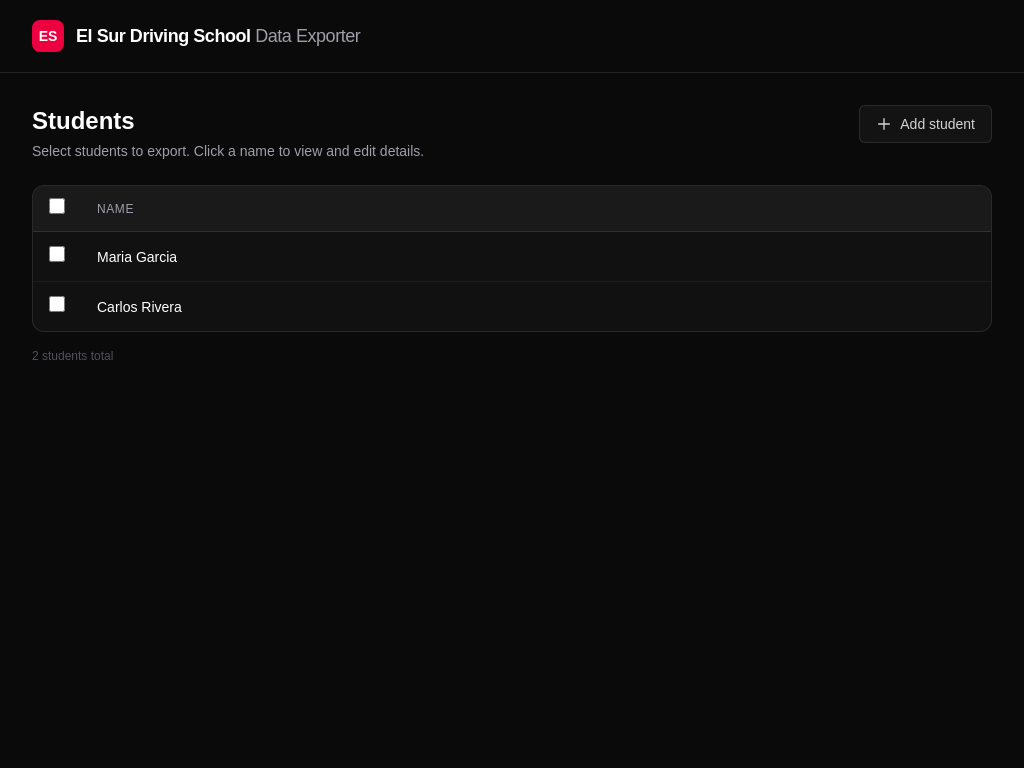
Test: Edit form › saves edited field value to local state
Click the text "Maria Garcia" at [137, 256], box x1=81 y1=232 x2=991 y2=282
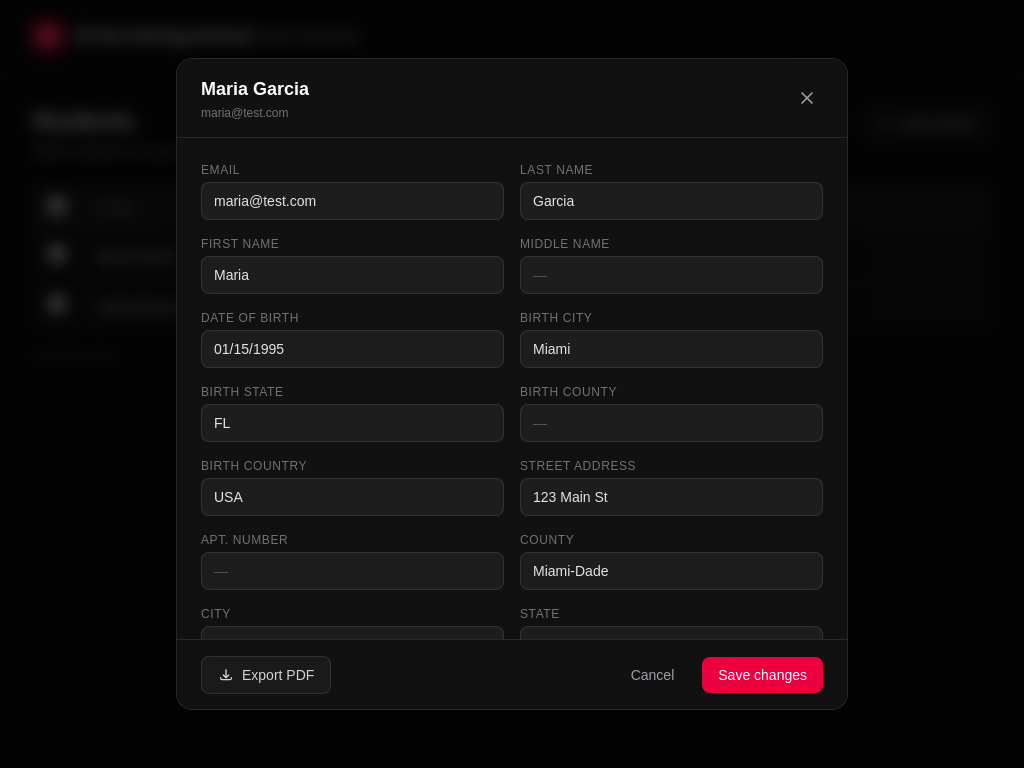
Replace the text in the field showing "Miami" below "Birth City" with "Orlando" at [672, 349], box x1=520 y1=330 x2=823 y2=368
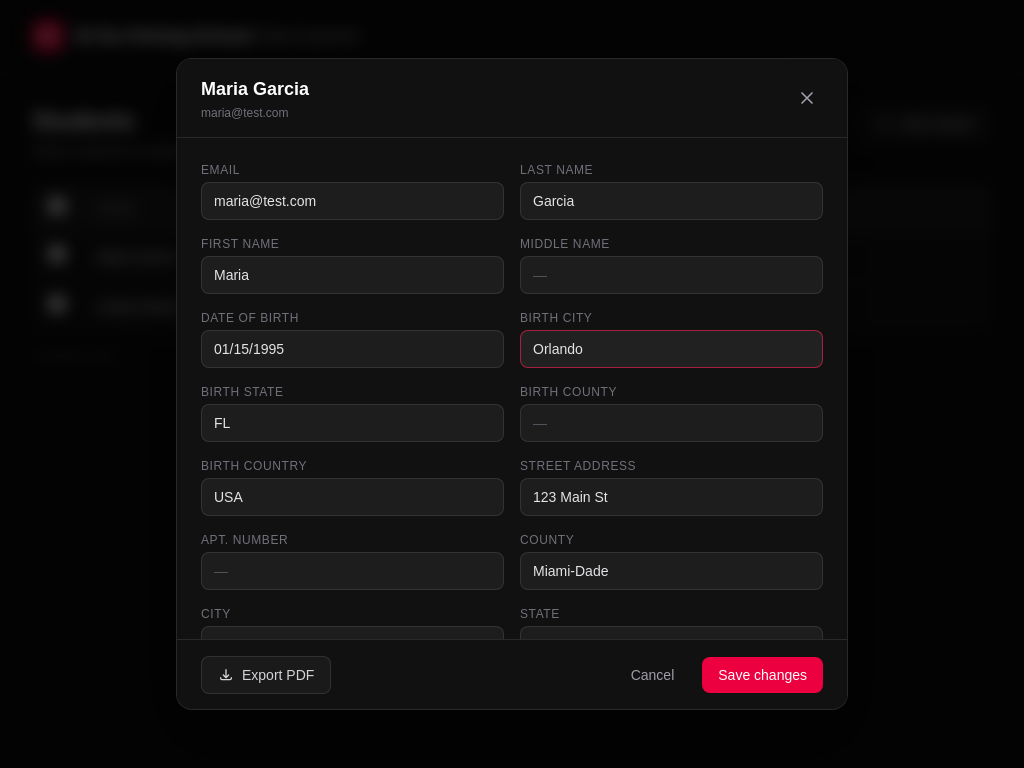
Click the button "Save changes" at [763, 674], box x1=702 y1=656 x2=823 y2=692
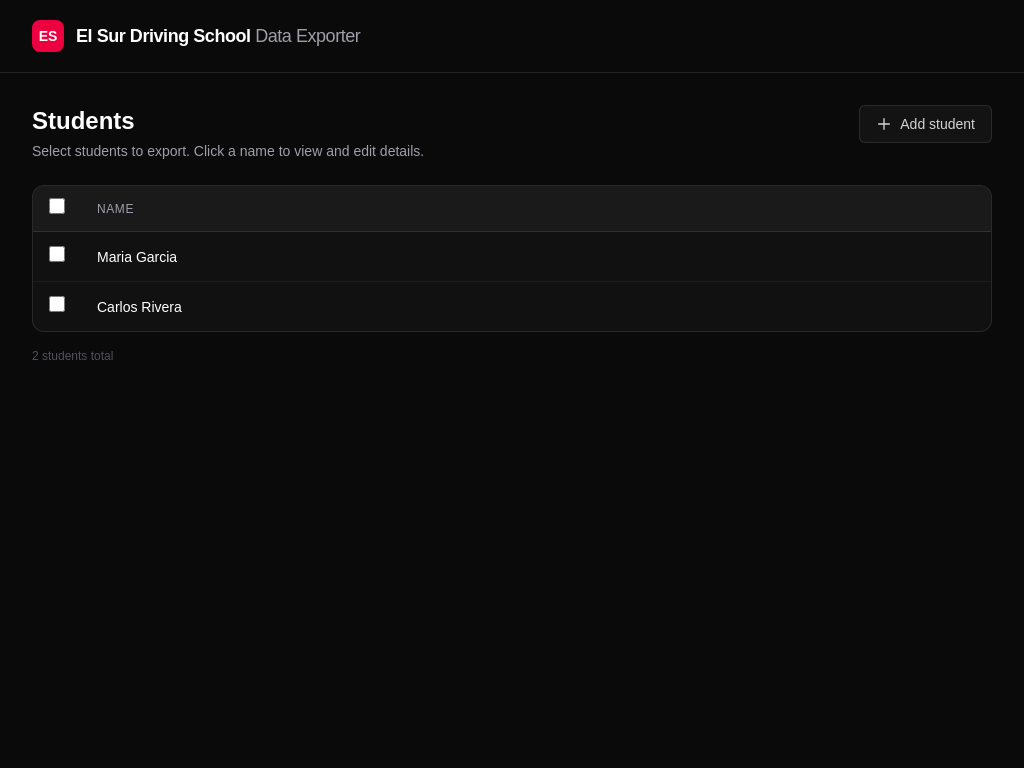
Click the text "Maria Garcia" at [137, 256], box x1=81 y1=232 x2=991 y2=282
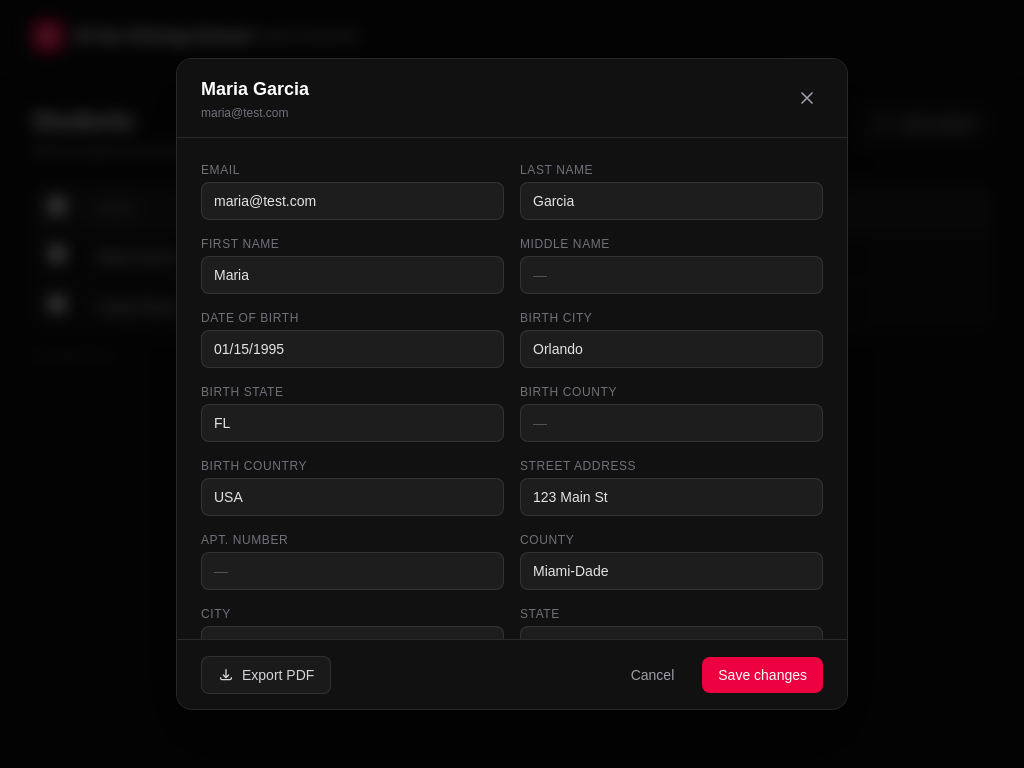
Now the field showing "Orlando" below "Birth City" is shown, box x1=520 y1=330 x2=823 y2=368
